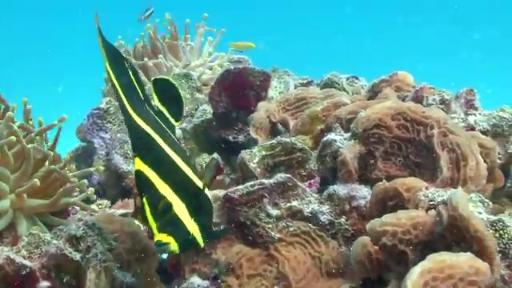Fish: (96, 16, 223, 261)
